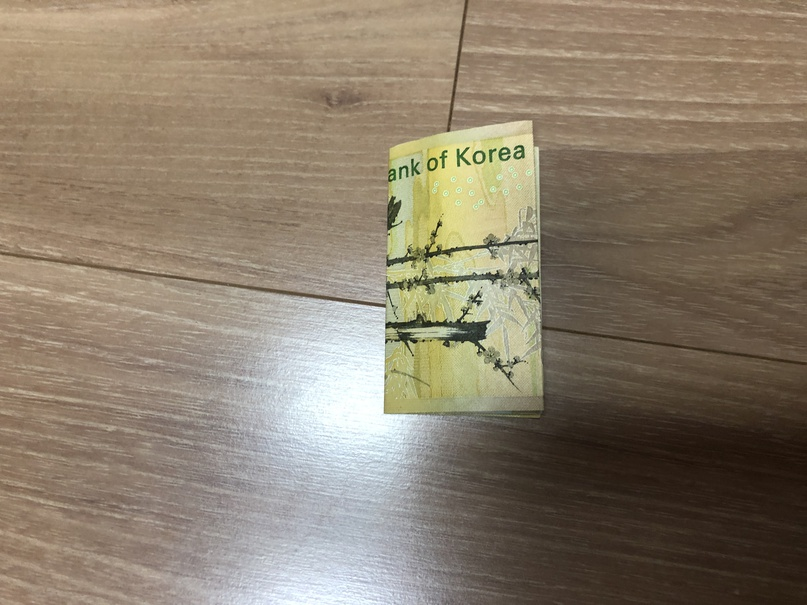50000won: (383, 119, 546, 419)
